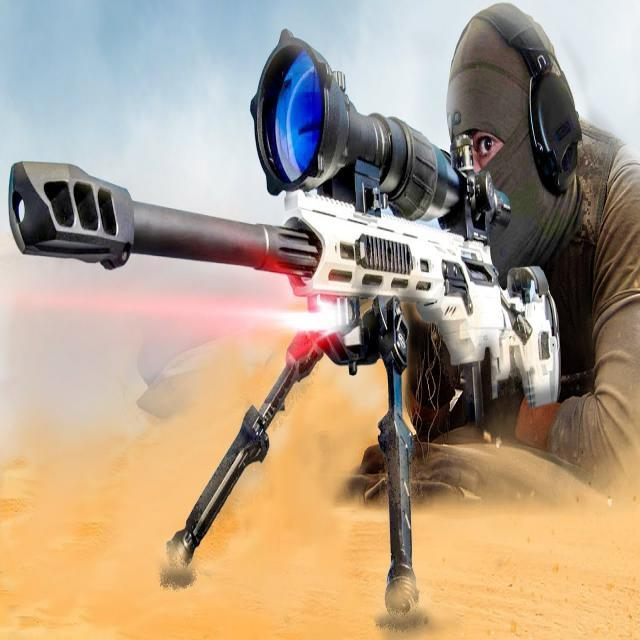scope: (255, 29, 505, 222)
sniper rifle: (10, 37, 553, 616)
